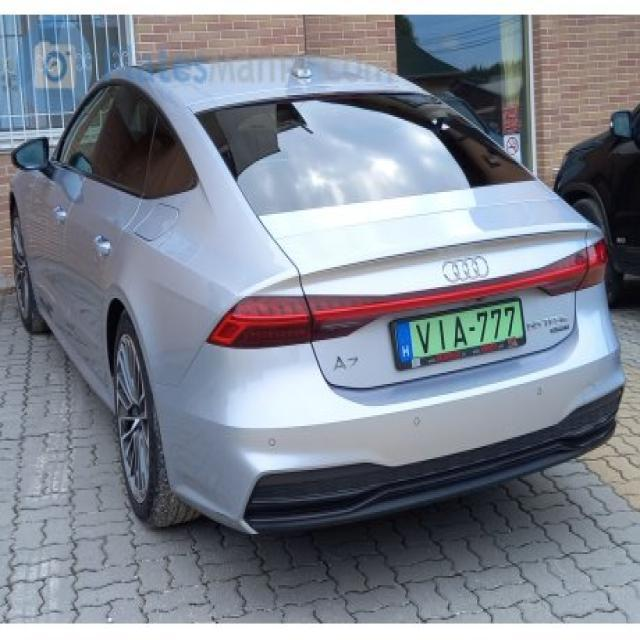licence: (389, 298, 530, 378)
